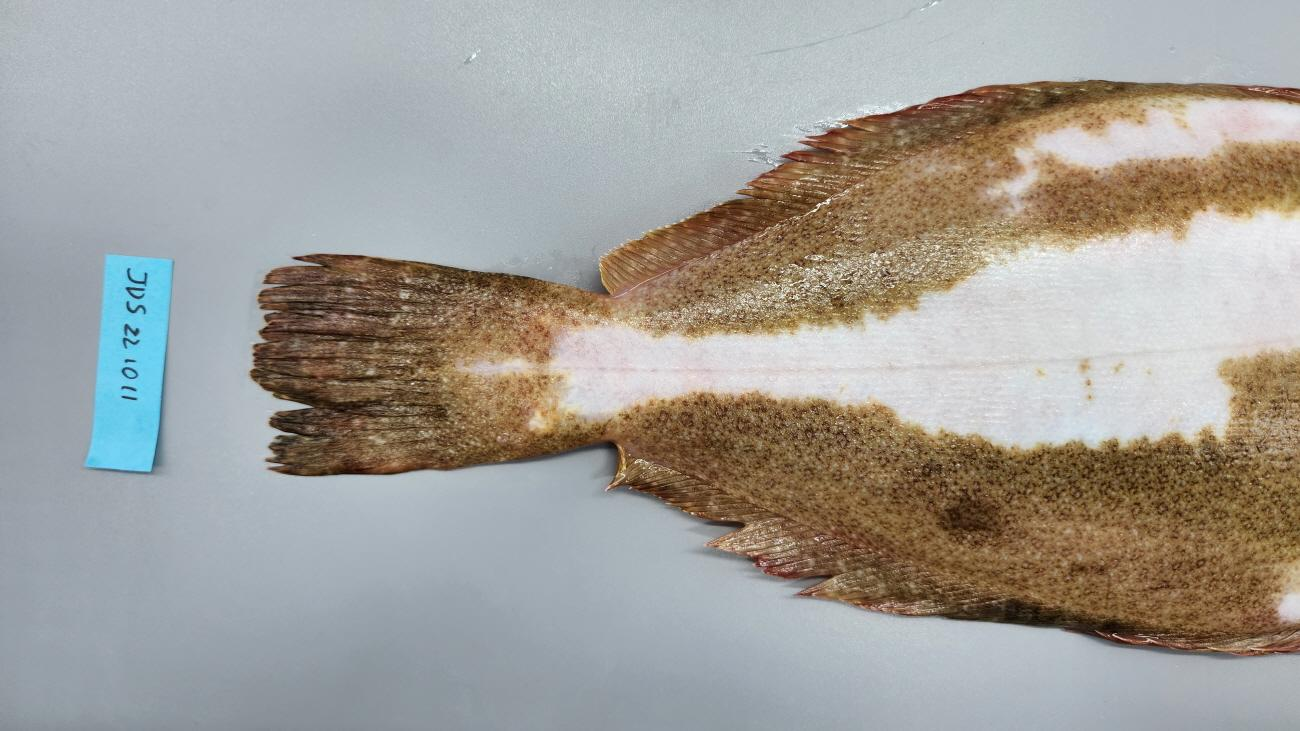VIFDH: (599, 79, 1298, 294)
